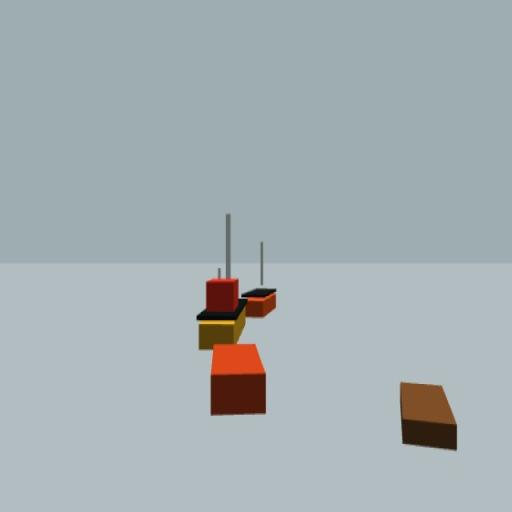debris_container: (210, 343, 268, 416), (400, 379, 458, 452)
vessel: (194, 214, 244, 350), (242, 241, 278, 320)
